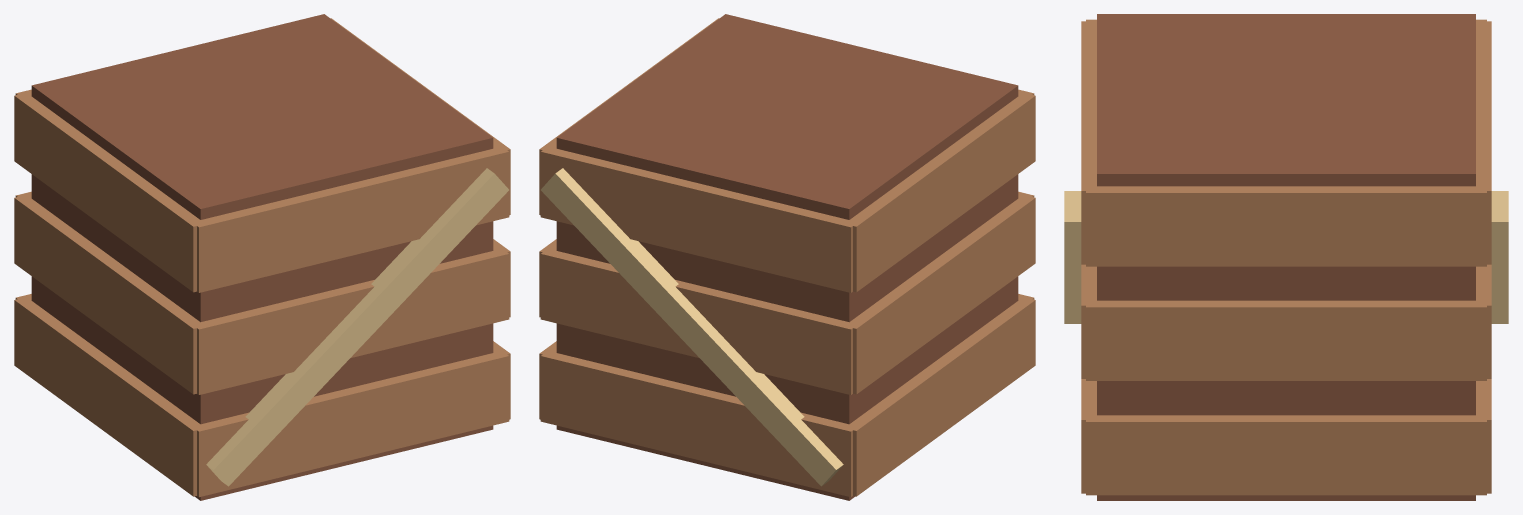
The model's file is crate.glb.
The picture shows the model from 3 angles, left to right: view 1: azimuth 30°, elevation 25°; view 2: azimuth 150°, elevation 25°; view 3: azimuth 270°, elevation 25°; orthographic projection. The views are drawn at different scales.
Parts seen in each view (by area): view 1: surface_#be8960, surface_#936047, surface_#e7c994; view 2: surface_#be8960, surface_#936047, surface_#e7c994; view 3: surface_#be8960, surface_#936047, surface_#e7c994.
Boxes of the visible parts, left/top/right/bottom form: surface_#be8960: left=14, top=18, right=510, bottom=497; surface_#936047: left=31, top=14, right=493, bottom=500; surface_#e7c994: left=206, top=168, right=508, bottom=486; surface_#be8960: left=539, top=18, right=1035, bottom=497; surface_#936047: left=556, top=14, right=1018, bottom=500; surface_#e7c994: left=541, top=168, right=843, bottom=486; surface_#be8960: left=1081, top=19, right=1491, bottom=495; surface_#936047: left=1097, top=14, right=1475, bottom=500; surface_#e7c994: left=1064, top=191, right=1508, bottom=323.
Size of the model in its own units: 0.91 by 0.8 by 0.985.
